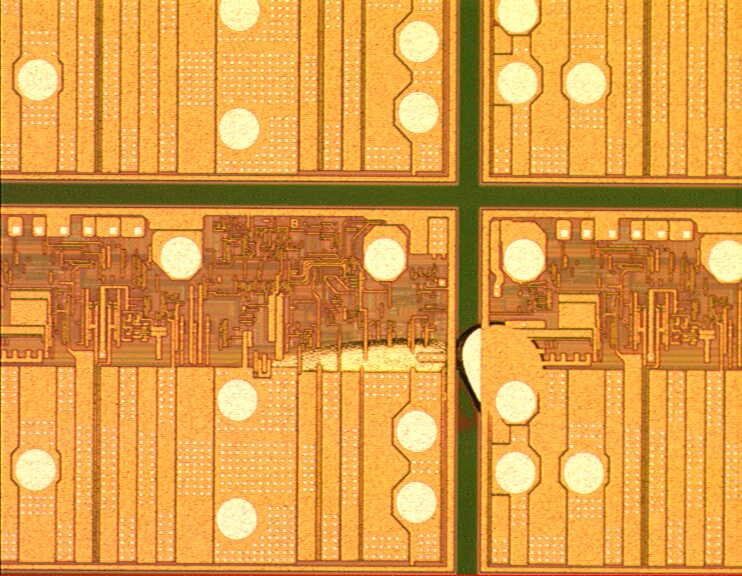COATING BAD: (263, 311, 565, 439)
